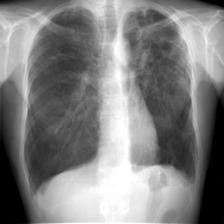tuberculosis: (15, 1, 205, 198)
